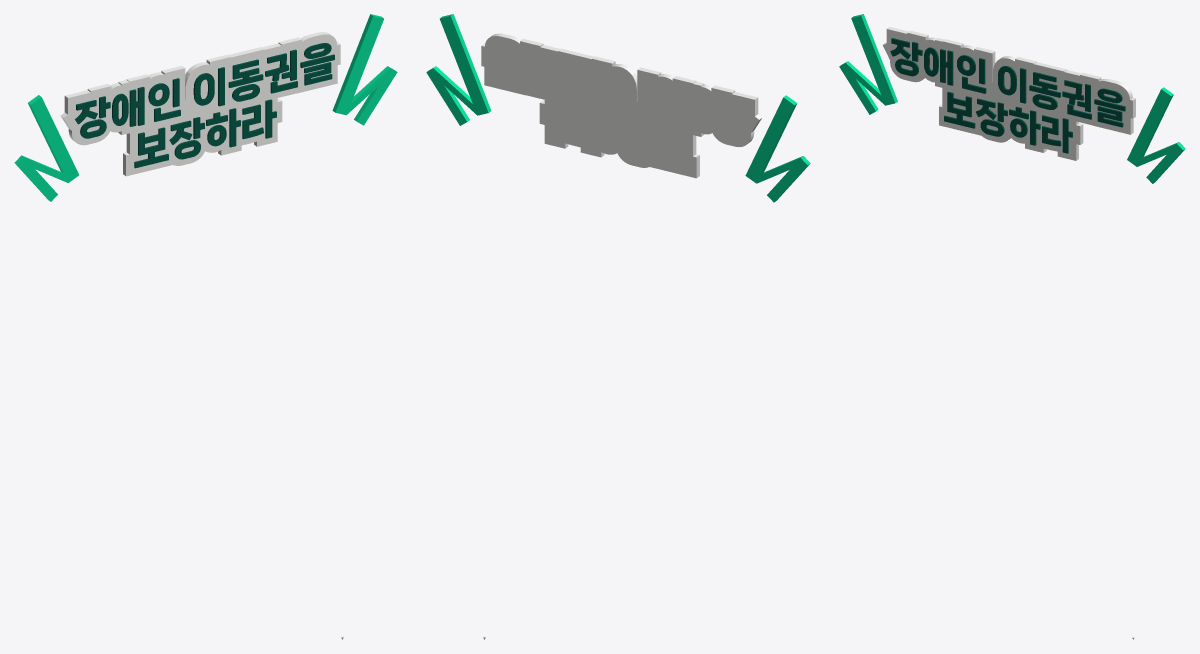
Rendered from eedong.glb.
The picture shows the model from 3 angles, left to right: view 1: azimuth 30°, elevation 25°; view 2: azimuth 150°, elevation 25°; view 3: azimuth 330°, elevation 25°; orthographic projection. The views are drawn at different scales.
Visible parts, largest first — view 1: Body28, Body39, Body38, Body10, Body22, Body2; view 2: Body28, Body39, Body38; view 3: Body28, Body38, Body39, Body10, Body22.
Boxes of the visible parts, box(x1,y1,x2,y2) form: Body28: box(60, 32, 340, 176); Body39: box(332, 14, 397, 125); Body38: box(14, 95, 78, 201); Body10: box(134, 127, 168, 168); Body22: box(228, 59, 263, 87); Body2: box(129, 87, 144, 126); Body28: box(481, 33, 762, 178); Body39: box(426, 14, 491, 125); Body38: box(745, 95, 810, 202); Body28: box(882, 26, 1135, 160); Body38: box(839, 14, 897, 114); Body39: box(1127, 87, 1185, 183); Body10: box(944, 91, 975, 128); Body22: box(1029, 72, 1060, 97).
Size of the model in its own units: 1.37 by 2.13 by 0.032.
